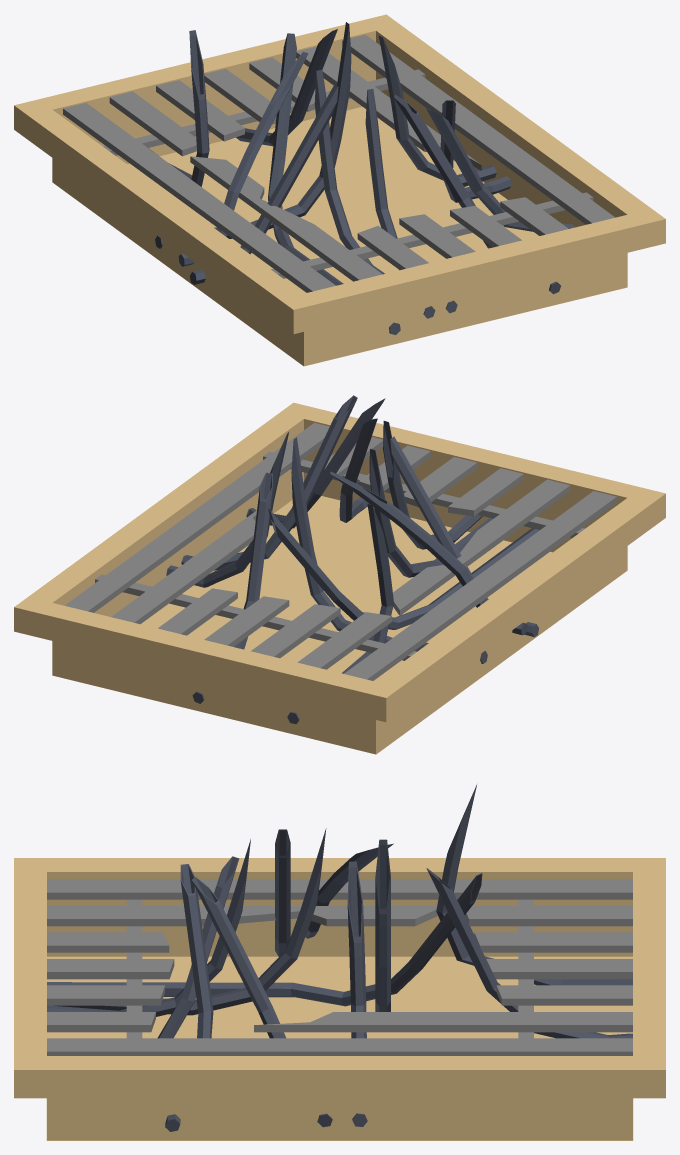
The model's file is Industrial_Ruin_Floor_Spike1.fbx.
3 views of the same model, one above another, from view 1: azimuth 30°, elevation 25°; view 2: azimuth 150°, elevation 25°; view 3: azimuth 270°, elevation 25° (orthographic). The views are drawn at different scales.
Visible parts, largest first — view 1: Cylinder.007; view 2: Cylinder.007; view 3: Cylinder.007.
Boxes of the visible parts, x1,y1,x2,y2 form: Cylinder.007: [14, 14, 665, 366]; Cylinder.007: [14, 395, 665, 754]; Cylinder.007: [14, 785, 665, 1140].
Size of the model in its own units: 200 by 98.54 by 260.
